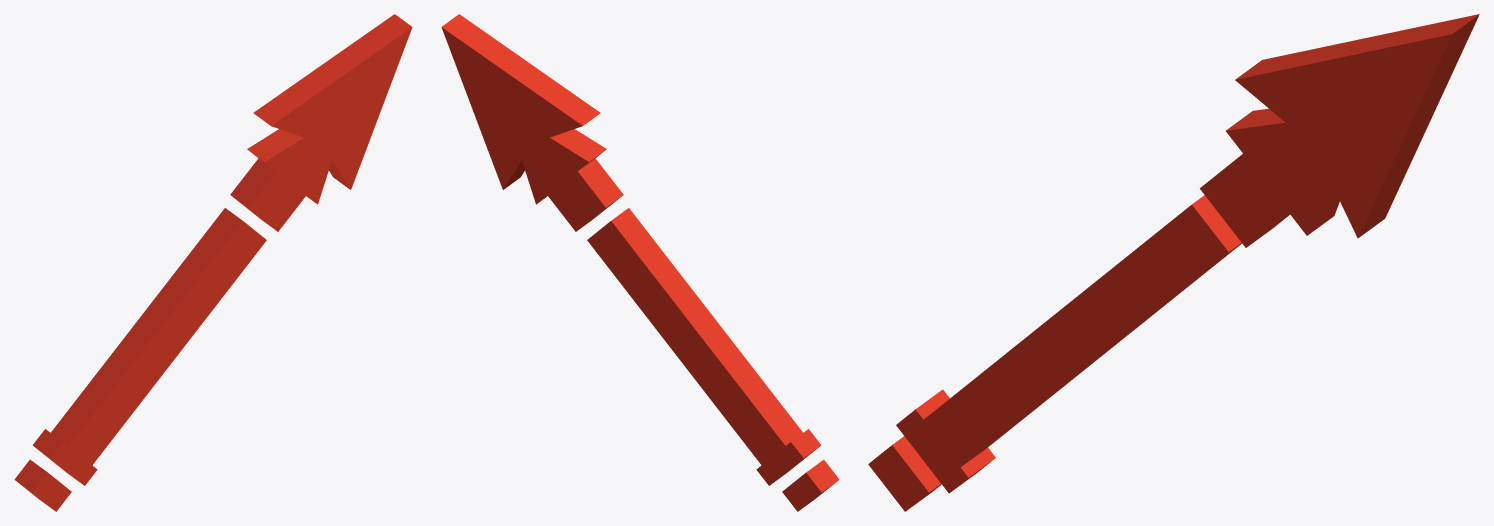
Rendered from Icon_Spear.fbx.
3 views of the same model, side by side, from view 1: azimuth 30°, elevation 25°; view 2: azimuth 150°, elevation 25°; view 3: azimuth 330°, elevation 25° (orthographic). The views are drawn at different scales.
Parts seen in each view (by area): view 1: Icon_Spear; view 2: Icon_Spear; view 3: Icon_Spear.
Part boxes in pixels (x1,y1,x2,y2): Icon_Spear: (14, 14, 412, 511); Icon_Spear: (441, 14, 839, 511); Icon_Spear: (868, 14, 1479, 511).
Size of the model in its own units: 79.17 by 79.17 by 6.42.
